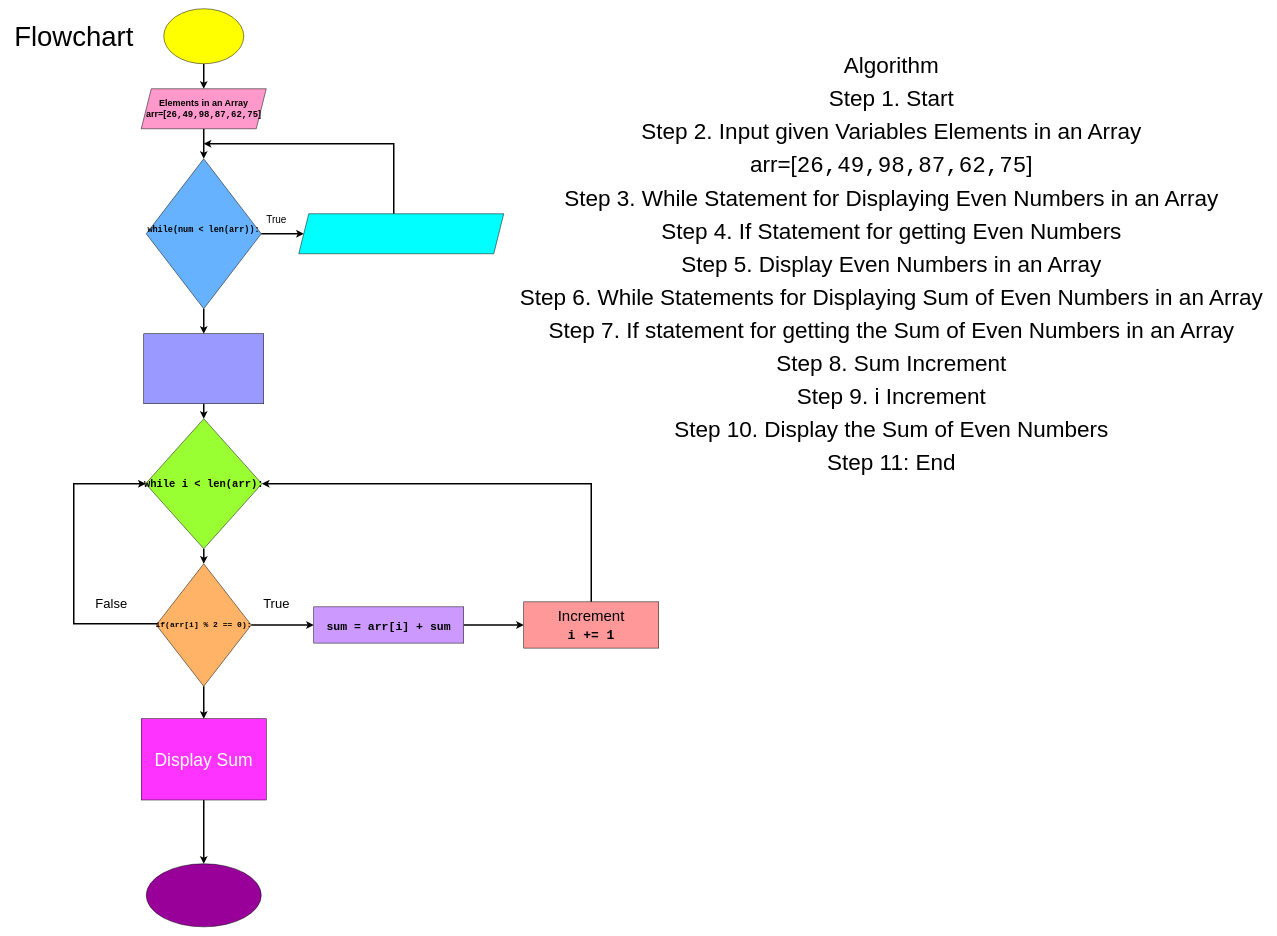
This 1277x936 diagram has some shape labels left out. Here are the shapes that lost their labels. From the top down, the centre of each, then its label:
(x=203, y=36): Start
(x=401, y=233): if arr[num] % 2 == 0: print(arr[num], end=" ") num += 1
(x=203, y=368): Display Even Numbers in an Array
(x=203, y=895): End
